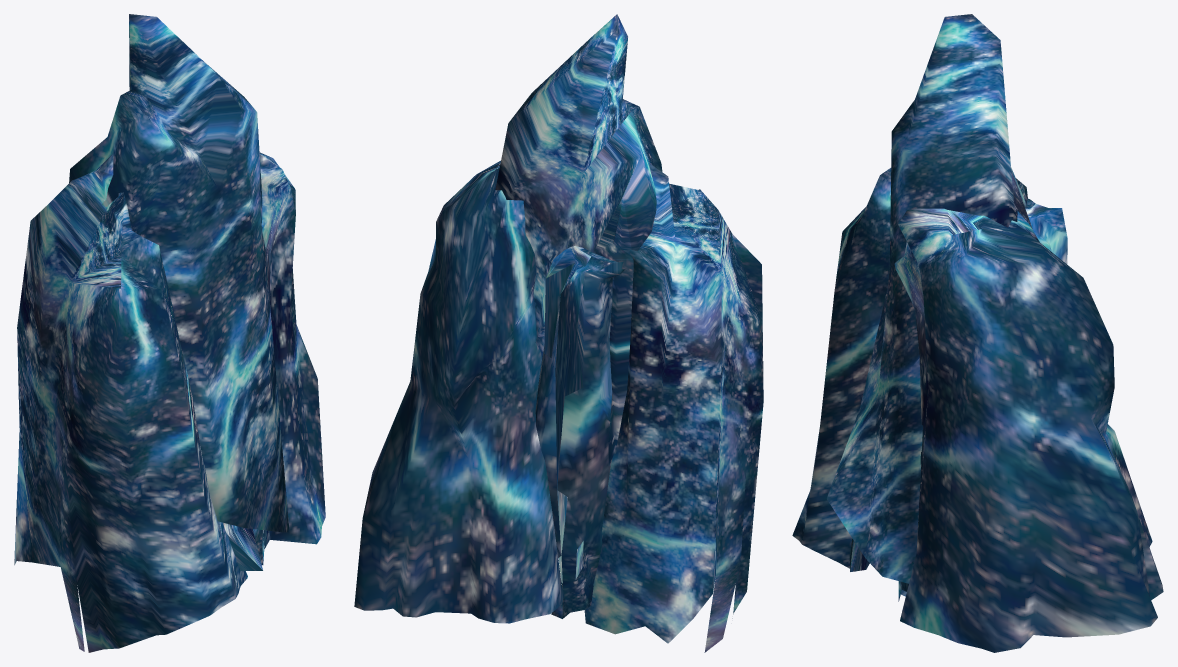
File: BF_BUFF_56_07_6273out.fbx
3 views of the same model, side by side, from view 1: azimuth 30°, elevation 25°; view 2: azimuth 150°, elevation 25°; view 3: azimuth 270°, elevation 25° (orthographic). The views are drawn at different scales.
Visible parts, largest first — view 1: bing_01; view 2: bing_01; view 3: bing_01.
Part boxes in pixels (x1=…): bing_01: x1=14, y1=14, x2=325, y2=652; bing_01: x1=354, y1=14, x2=763, y2=652; bing_01: x1=792, y1=14, x2=1163, y2=652.
Size of the model in its own units: 1.59 by 3.05 by 1.71.
